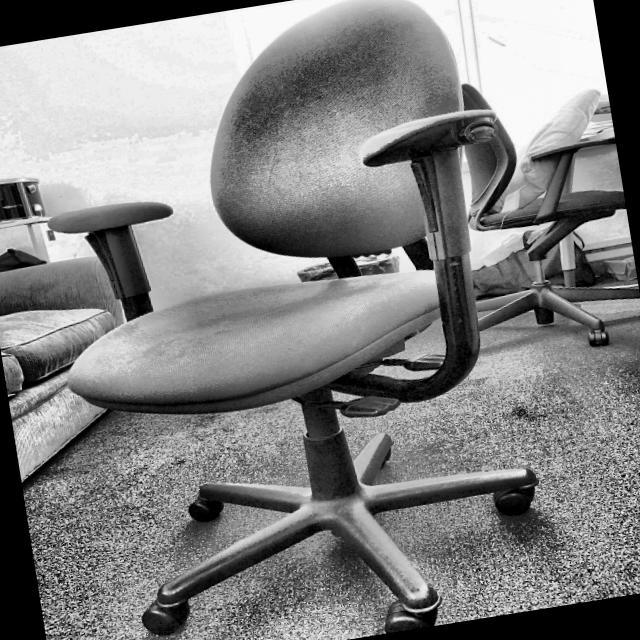chair: (19, 0, 577, 640)
